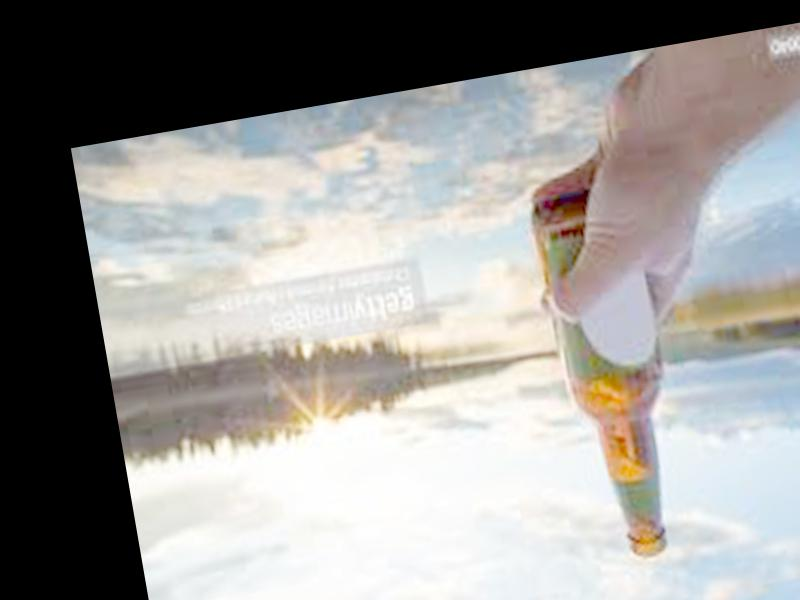Beer: (523, 186, 697, 571)
